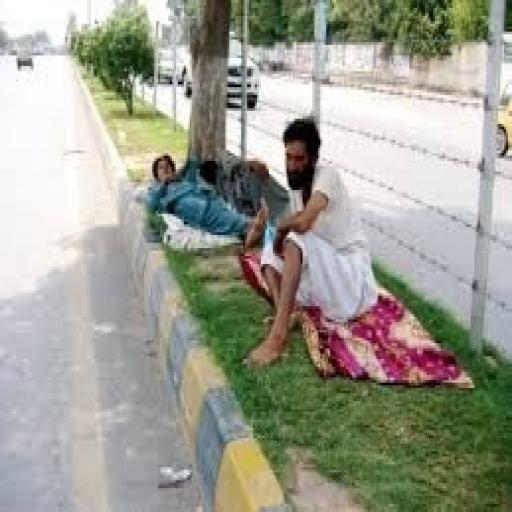sleeping: (239, 114, 380, 372)
